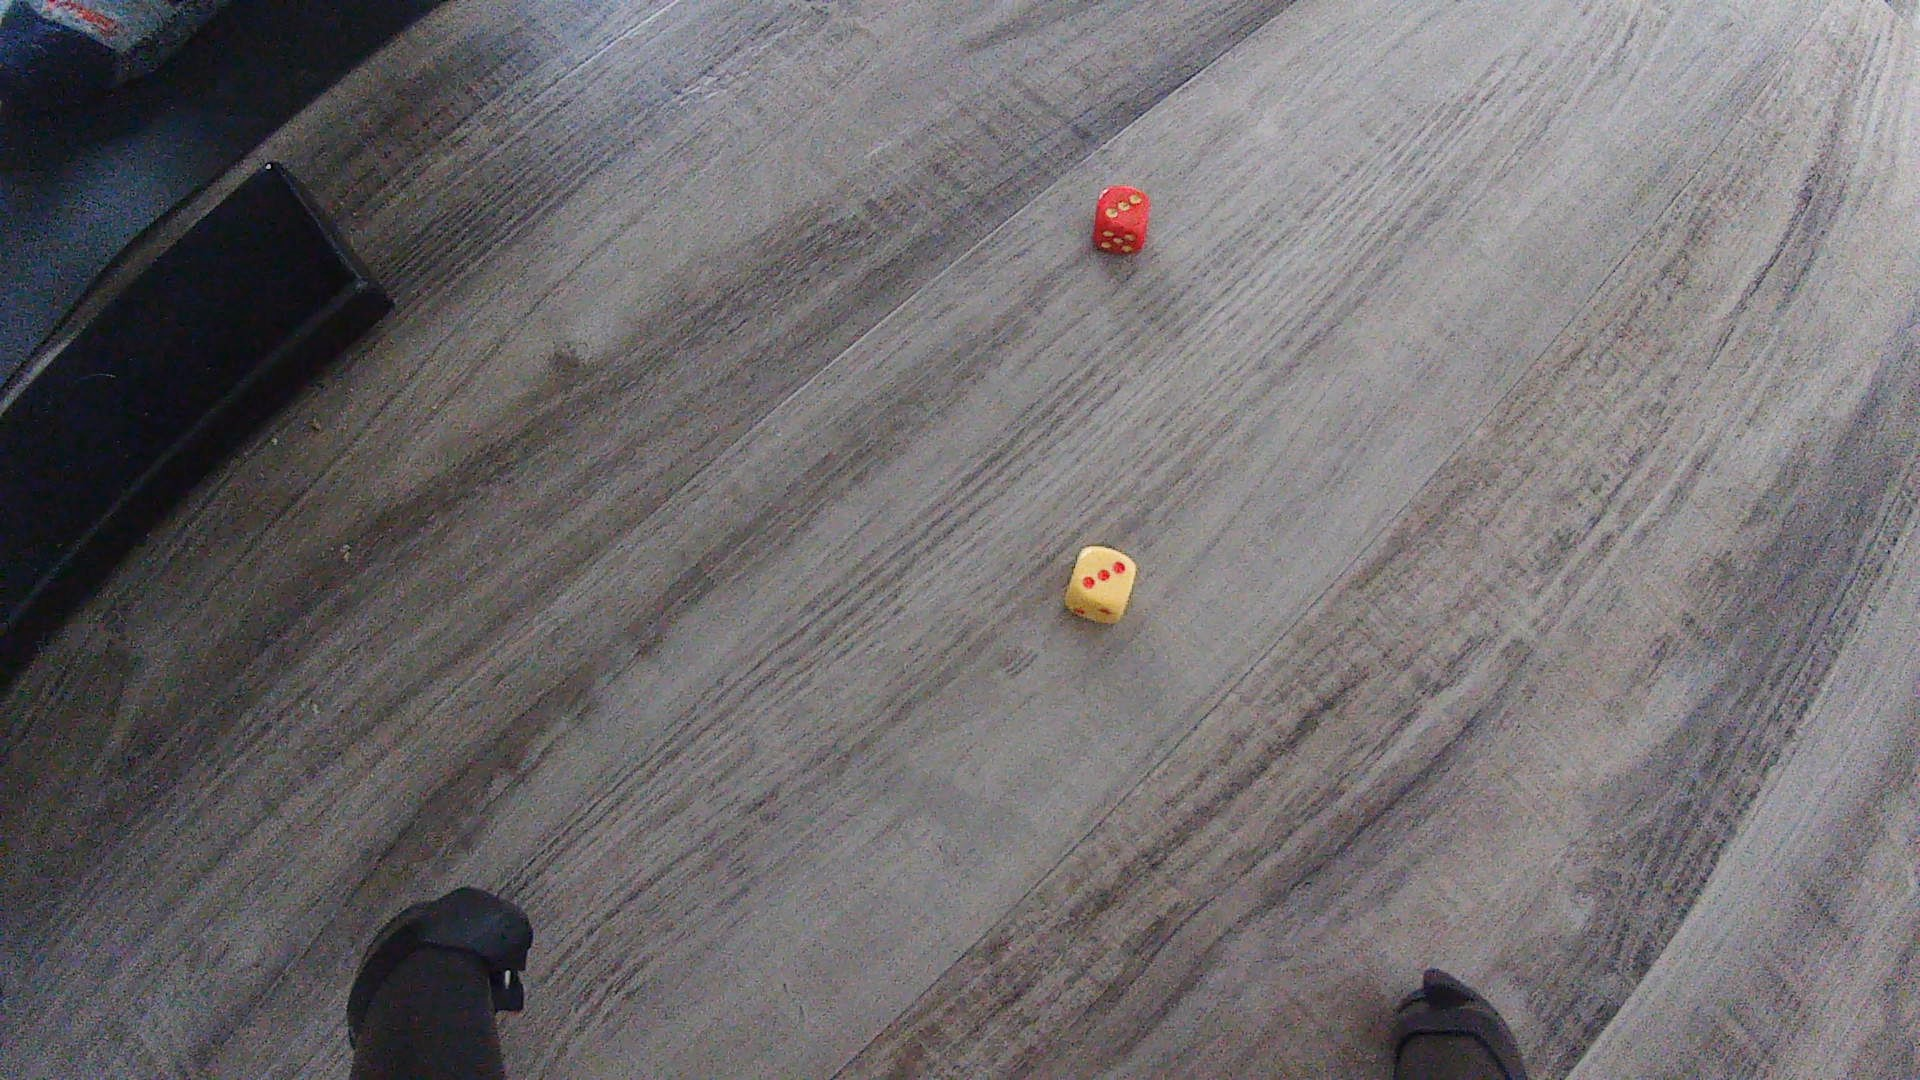die: (1064, 545, 1139, 625), (1092, 185, 1153, 255)
